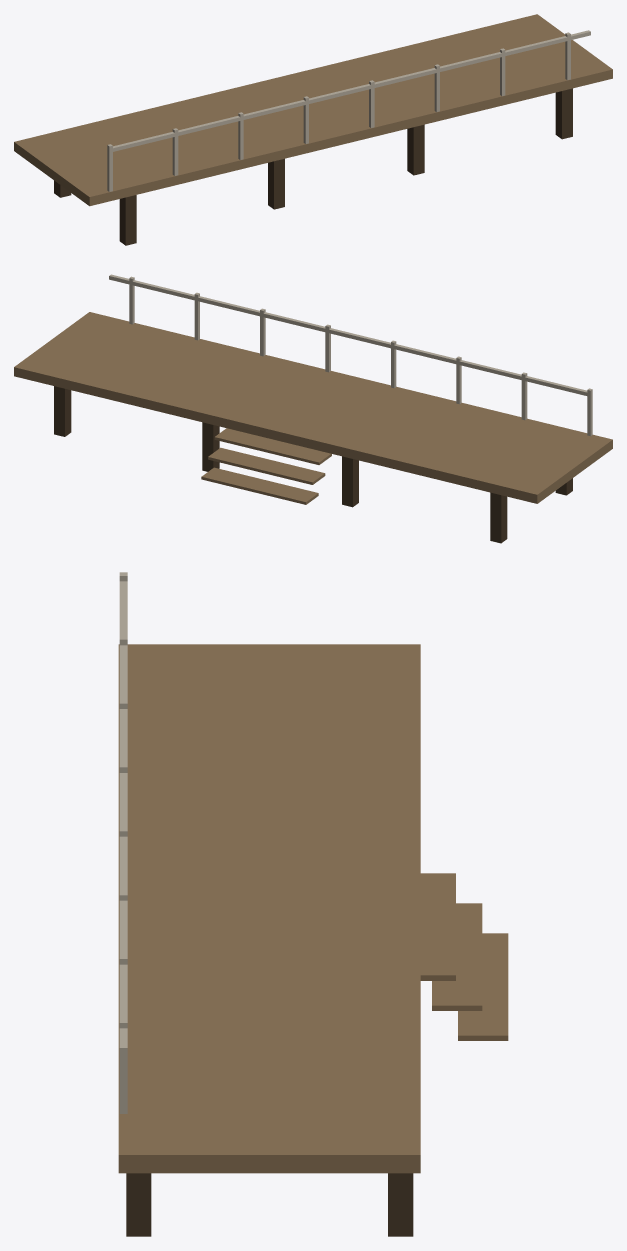
Rendered from a04-launch-dock-fixed.glb.
The picture shows the model from 3 angles, top to bottom: view 1: azimuth 30°, elevation 25°; view 2: azimuth 150°, elevation 25°; view 3: azimuth 270°, elevation 25°; orthographic projection. The views are drawn at different scales.
Parts seen in each view (by area): view 1: part0, part3, part1; view 2: part0, part3, part2, part1; view 3: part0, part2, part3, part1.
Part boxes in pixels (box(x1,y1,x2,y2)): part0: box(14, 14, 612, 206); part3: box(107, 30, 590, 191); part1: box(54, 88, 572, 245); part0: box(14, 312, 612, 503); part3: box(109, 274, 592, 436); part2: box(201, 428, 331, 504); part1: box(54, 386, 572, 543); part0: box(118, 644, 420, 1173); part2: box(420, 873, 508, 1040); part3: box(119, 572, 127, 1113); part1: box(126, 1173, 413, 1236).
Size of the model in its own units: 12000 by 2300 by 3870.
